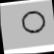no answer: (18, 7, 47, 36)
